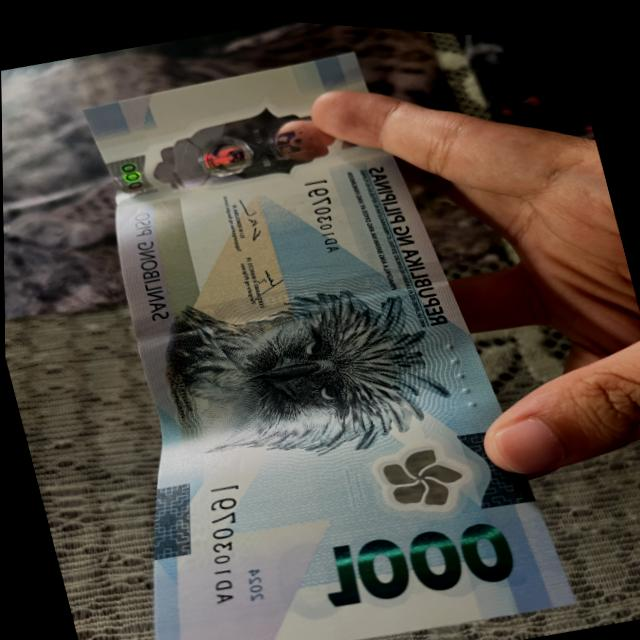clear_window: (93, 56, 391, 227)
eagle: (137, 241, 458, 498)
sampaguita: (321, 414, 479, 534)
security_thread: (126, 231, 452, 363)
serial_number: (180, 471, 277, 622), (291, 164, 353, 260)
value: (302, 485, 528, 627)
